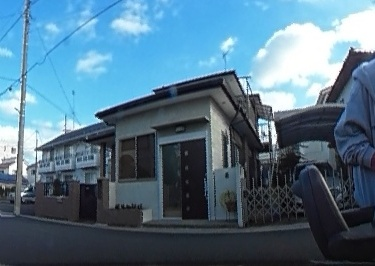person: (345, 3, 375, 223)
